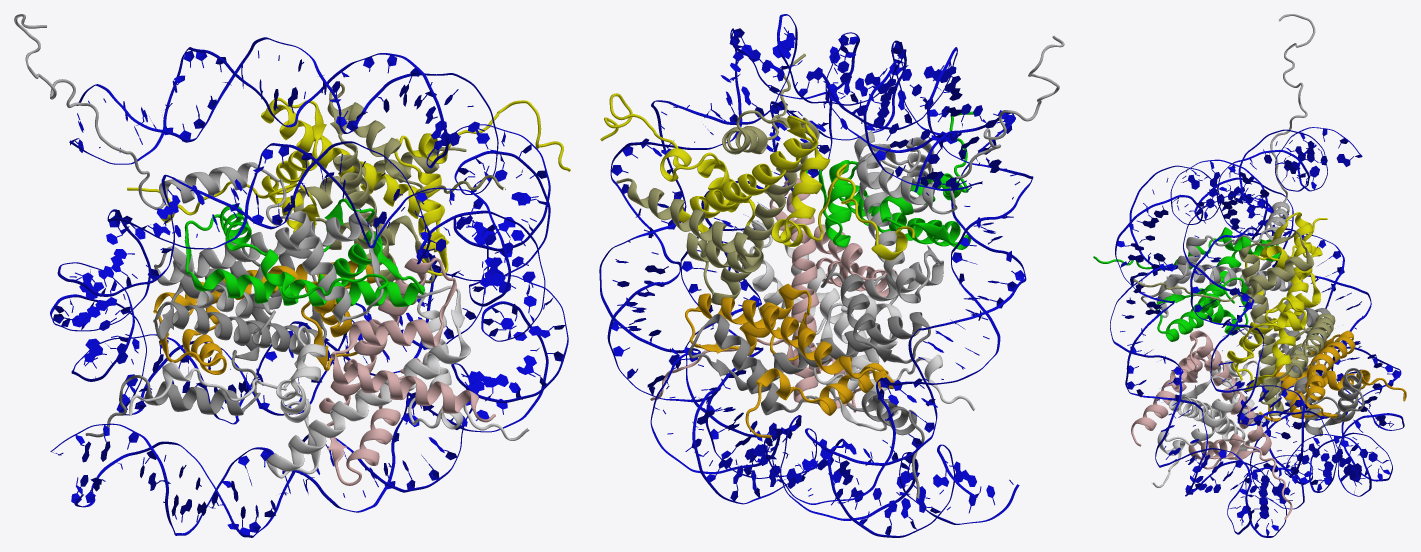
File: nucleosome.gltf
The picture shows the model from 3 angles, left to right: view 1: azimuth 30°, elevation 25°; view 2: azimuth 150°, elevation 25°; view 3: azimuth 270°, elevation 25°; orthographic projection. The views are drawn at different scales.
Parts seen in each view (by area): view 1: vmd_mol0_rep0, vmd_mol0_rep1; view 2: vmd_mol0_rep0, vmd_mol0_rep1; view 3: vmd_mol0_rep0, vmd_mol0_rep1.
Boxes of the visible parts, <box> form: vmd_mol0_rep0: <box>14,14,570,485</box>; vmd_mol0_rep1: <box>50,37,568,537</box>; vmd_mol0_rep0: <box>600,35,1064,499</box>; vmd_mol0_rep1: <box>599,14,1033,537</box>; vmd_mol0_rep0: <box>1093,14,1406,519</box>; vmd_mol0_rep1: <box>1110,127,1404,537</box>.
Bounding box in the file's own units: 2 × 2.07 × 1.43.
